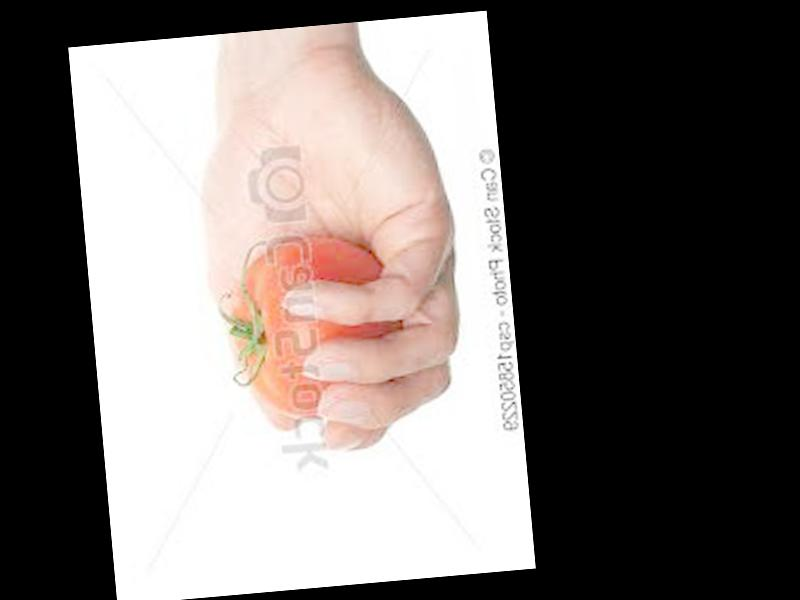Tomato: (226, 234, 403, 424)
